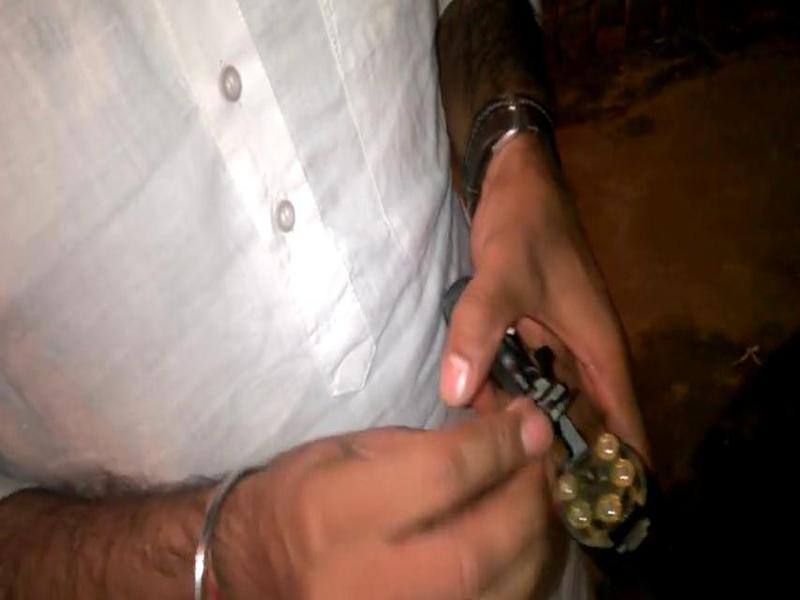Revolver: (460, 249, 700, 600)
